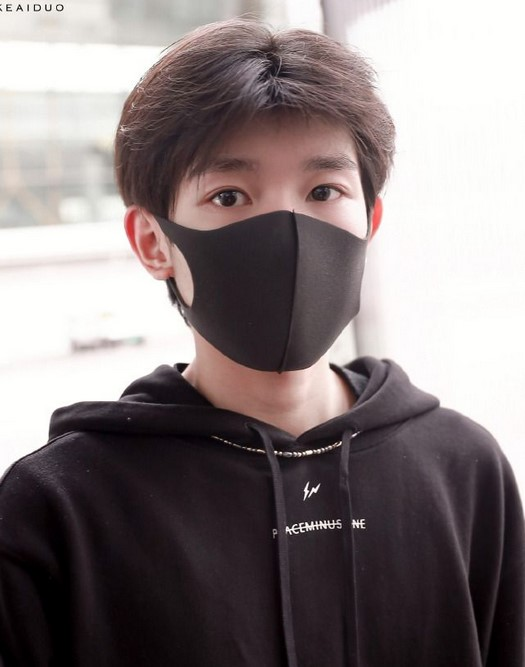face_with_mask: (119, 26, 389, 379)
